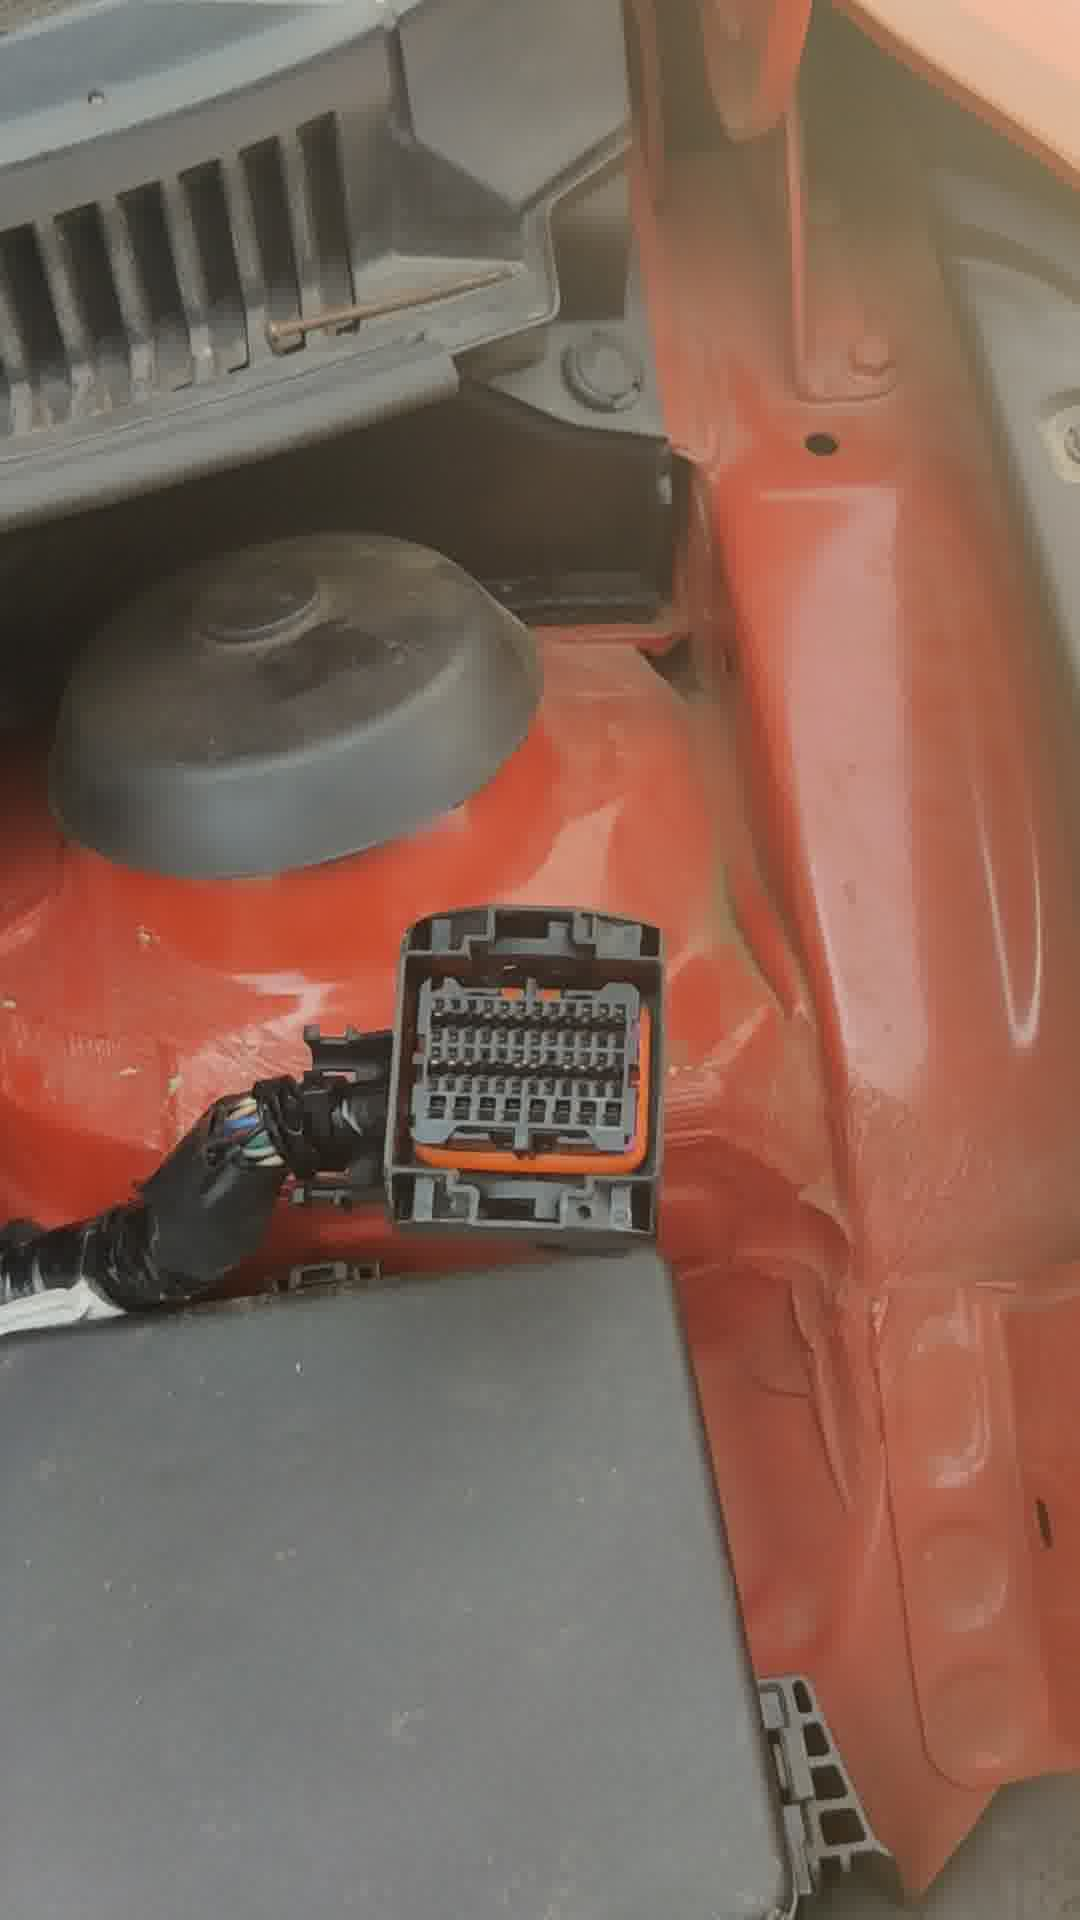connector: (378, 907, 666, 1250)
